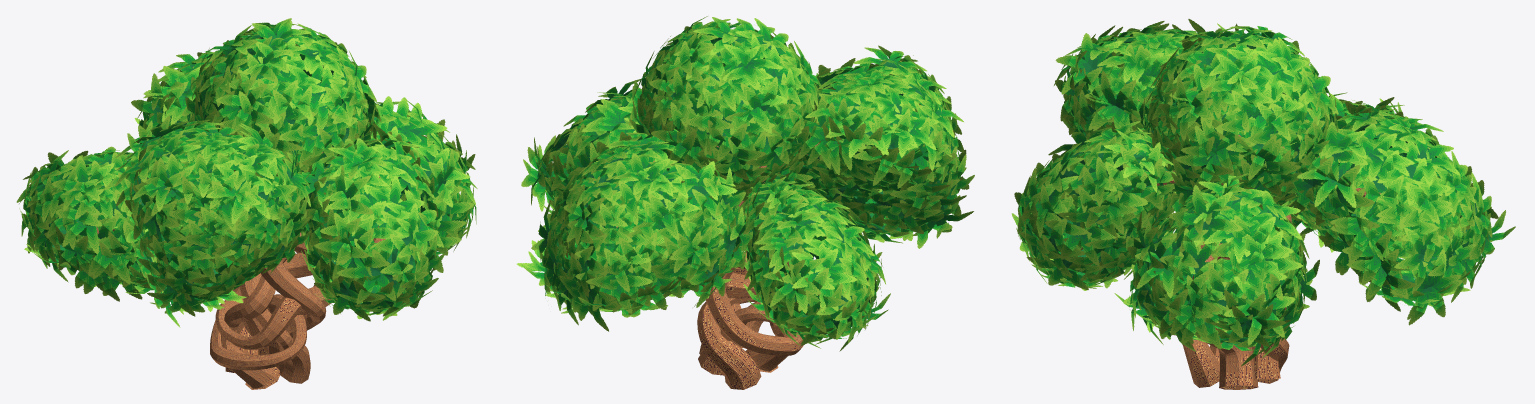
File: big_tree.glb
The picture shows the model from 3 angles, left to right: view 1: azimuth 30°, elevation 25°; view 2: azimuth 150°, elevation 25°; view 3: azimuth 270°, elevation 25°; orthographic projection. The views are drawn at different scales.
Visible parts, largest first — view 1: Icosphere.001, BézierCurve.008, BézierCurve.007, BézierCurve.006, BézierCurve.005, BézierCurve.009; view 2: Icosphere.001, BézierCurve.008, BézierCurve.007, BézierCurve.005, BézierCurve.006; view 3: Icosphere.001, BézierCurve.009, BézierCurve.005, BézierCurve.007, BézierCurve.008.
Part boxes in pixels (x1,y1,x2,y2): Icosphere.001: (16,18,477,327); BézierCurve.008: (210,152,385,372); BézierCurve.007: (215,171,332,354); BézierCurve.006: (221,250,294,389); BézierCurve.005: (96,226,314,383); BézierCurve.009: (260,261,326,375); Icosphere.001: (516,16,974,351); BézierCurve.008: (697,255,805,389); BézierCurve.007: (698,133,893,375); BézierCurve.005: (701,231,839,347); BézierCurve.006: (738,252,792,372); Icosphere.001: (1011,19,1515,366); BézierCurve.009: (1200,146,1380,389); BézierCurve.005: (1183,339,1219,387); BézierCurve.007: (1112,99,1291,379); BézierCurve.008: (1081,170,1289,383).
Bounding box in the file's own units: 55.12 × 45.9 × 59.13.
Materials: 2 (2 with a texture image).
